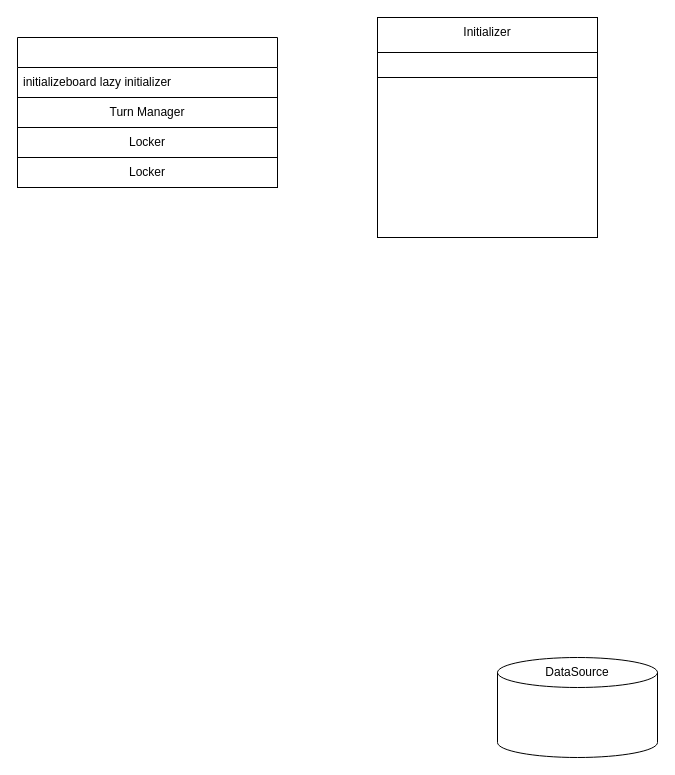
The diagram is 675 pixels wide and 775 high, and some of its shapes have lost their labels. The box of each missing label's shape, as (x1, y1, x2, y2) in pixels:
ChessBoard: (16, 36, 278, 98)
mapclickto: (376, 52, 598, 78)
